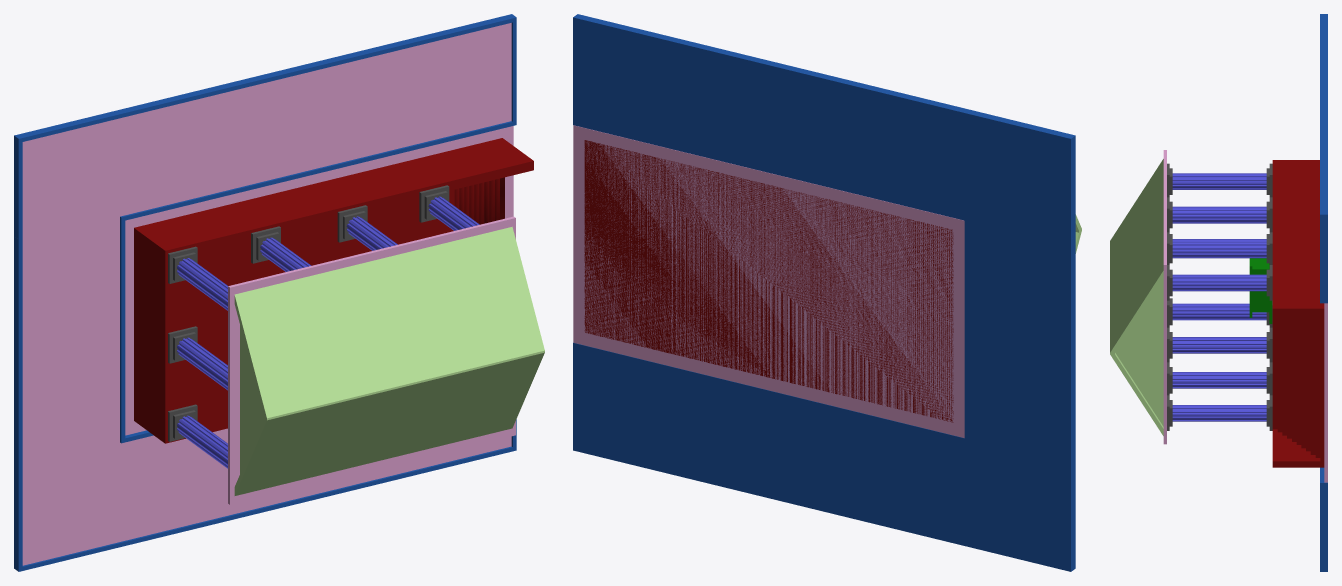
File: temple.obj
3 renders of one model, left to right at view 1: azimuth 30°, elevation 25°; view 2: azimuth 150°, elevation 25°; view 3: azimuth 270°, elevation 25°, orthographic. The views are drawn at different scales.
Visible parts, largest first — view 1: Plane003, Box040, Box002, Box046, Box039, Box001, Cylinder001, Cylinder002, Cylinder009, Cylinder003, Cylinder005, Cylinder007; view 2: Box046, Box001, Box002; view 3: Box002, Box040, Box046, Cylinder005, Cylinder003, Cylinder007, Cylinder002, Cylinder004, Cylinder006, Cylinder008, Cylinder001, Box039 (+2 smaller).
Part boxes in pixels (x1=…): Plane003: x1=22, y1=23, x2=511, y2=565; Box040: x1=234, y1=226, x2=544, y2=495; Box002: x1=134, y1=138, x2=533, y2=443; Box046: x1=14, y1=14, x2=516, y2=571; Box039: x1=228, y1=216, x2=515, y2=504; Box001: x1=125, y1=126, x2=513, y2=435; Cylinder001: x1=177, y1=415, x2=227, y2=468; Cylinder002: x1=177, y1=258, x2=227, y2=310; Cylinder009: x1=177, y1=337, x2=227, y2=390; Cylinder003: x1=428, y1=196, x2=479, y2=230; Cylinder005: x1=260, y1=237, x2=311, y2=271; Cylinder007: x1=346, y1=216, x2=397, y2=250; Box046: x1=573, y1=14, x2=1075, y2=571; Box001: x1=573, y1=125, x2=964, y2=437; Box002: x1=584, y1=140, x2=953, y2=422; Box002: x1=1272, y1=160, x2=1324, y2=467; Box040: x1=1110, y1=159, x2=1163, y2=435; Box046: x1=1320, y1=14, x2=1327, y2=571; Cylinder005: x1=1172, y1=206, x2=1266, y2=223; Cylinder003: x1=1172, y1=274, x2=1266, y2=291; Cylinder007: x1=1172, y1=241, x2=1266, y2=258; Cylinder002: x1=1172, y1=173, x2=1266, y2=189; Cylinder004: x1=1172, y1=405, x2=1266, y2=421; Cylinder006: x1=1172, y1=337, x2=1266, y2=353; Cylinder008: x1=1172, y1=372, x2=1266, y2=388; Cylinder001: x1=1172, y1=303, x2=1266, y2=320; Box039: x1=1163, y1=150, x2=1166, y2=444.
Bounding box in the file's own units: 279 × 232 × 128.
